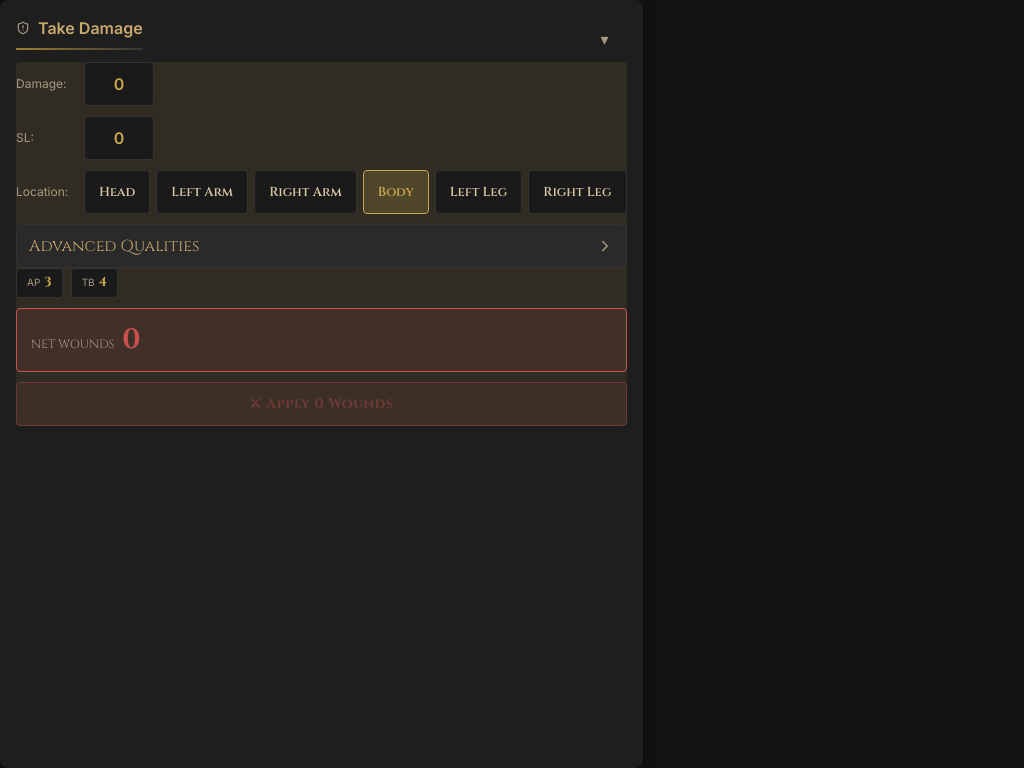
Test case: TakeDamagePanel — collapsed net wounds unchanged (Req 3.3) › computes net wounds with default toggle values while section is collapsed
The image size is (1024, 768).
Note: Section is collapsed by default. Enter Damage 12, SL 0, Body (AP 3), TB 4.
Replace the text in the number field named "Incoming damage" with "12" at (119, 84), box [84,62,154,106]
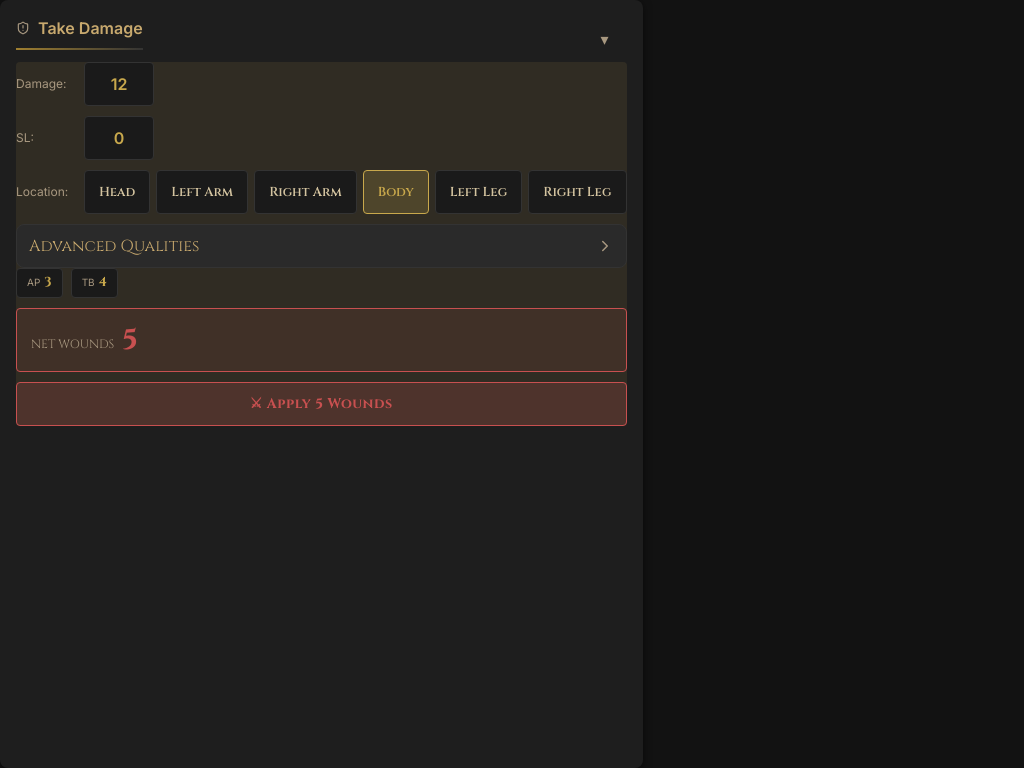
Check: the button with test id "net-wounds" reads "5", box [122,318,138,360]
